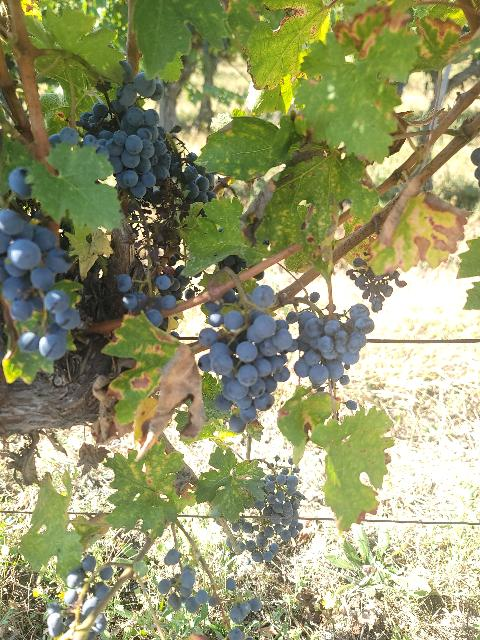grapes: (0, 166, 80, 381), (78, 62, 171, 198), (198, 310, 299, 430), (240, 459, 305, 564), (294, 304, 375, 386), (46, 555, 114, 638), (319, 305, 374, 379), (346, 258, 406, 312)
